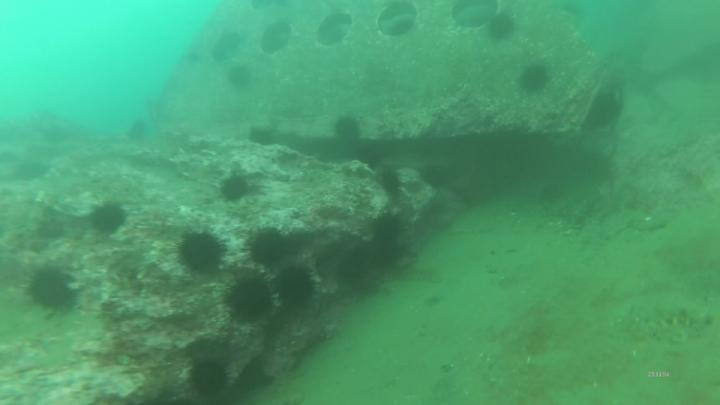echinus: (223, 274, 280, 329), (173, 228, 232, 279), (270, 262, 320, 320), (19, 265, 79, 313), (245, 227, 299, 268), (186, 357, 234, 398), (86, 200, 133, 241), (367, 212, 406, 255), (514, 64, 551, 96), (220, 173, 254, 205), (331, 114, 364, 143), (487, 16, 518, 43), (379, 167, 404, 200), (226, 64, 254, 87)
